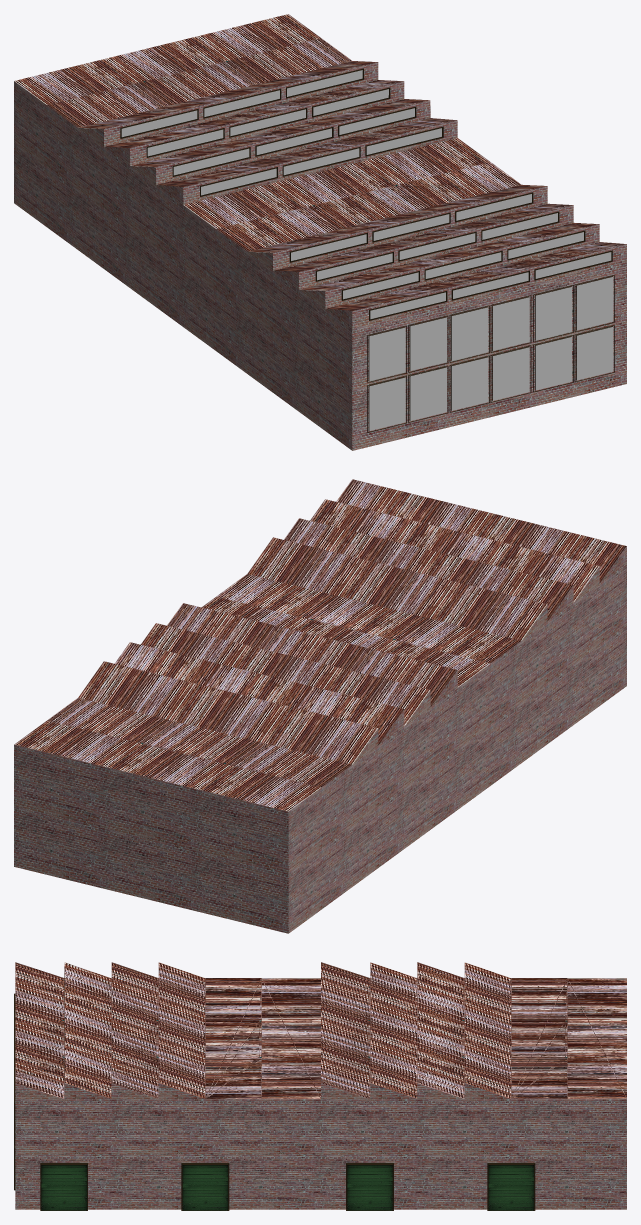
Rendered from ENVI_Factory.obj.
The picture shows the model from 3 angles, top to bottom: view 1: azimuth 30°, elevation 25°; view 2: azimuth 150°, elevation 25°; view 3: azimuth 270°, elevation 25°; orthographic projection. The views are drawn at different scales.
Parts seen in each view (by area): view 1: ENVI_Factory; view 2: ENVI_Factory; view 3: ENVI_Factory.
Part boxes in pixels (x1,y1,x2,y2): ENVI_Factory: (14, 14, 626, 450); ENVI_Factory: (14, 479, 626, 933); ENVI_Factory: (14, 962, 626, 1210).
Bounding box in the file's own units: 17.58 × 8.47 × 37.23.
Materials: 12 (6 with a texture image).
